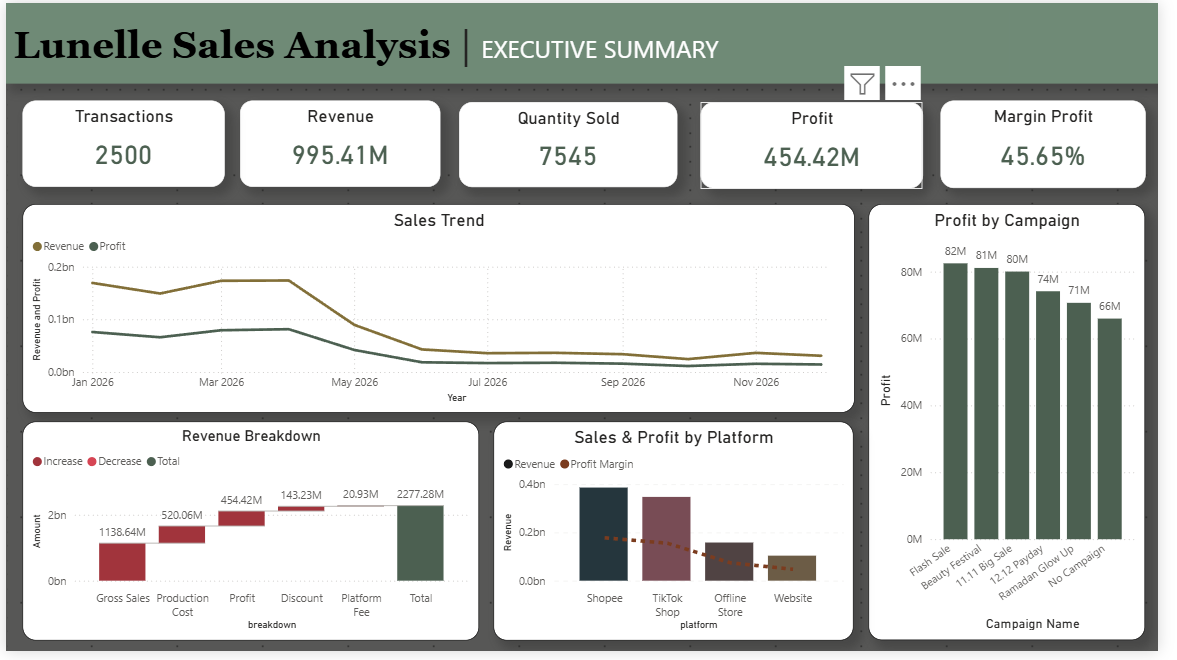

The dashboard page shown, as its layout file describes it:
{"tool":"powerbi","page":{"name":"Overview","canvas":[1280,720],"ordinal":0},"visuals":[{"type":"shape","box":[0,0,1280.5,89.5],"z":0},{"type":"lineChart","title":"Sales Trend","fields":{"Y":["Sum(public monthly_profit.total_sales)","Sum(public monthly_profit.total_profit)"],"Category":["public monthly_profit.month.Variation.Date Hierarchy.Year","public monthly_profit.month.Variation.Date Hierarchy.Quarter","public monthly_profit.month.Variation.Date Hierarchy.Month","public monthly_profit.month.Variation.Date Hierarchy.Day"]},"box":[17.6,224,924.8,232],"z":1000},{"type":"columnChart","title":"Profit by Campaign","fields":{"Y":["Sum(public campaign_financial.total_profit)"],"Category":["public campaign_financial.campaign_name"]},"box":[958.4,224,307.2,484.8],"z":2000},{"type":"lineStackedColumnComboChart","title":"Revenue & Profit Margin  by Platform","fields":{"Category":["public platform_financial.platform"],"Y":["Sum(public platform_financial.total_sales)"],"Y2":["Sum(public platform_financial.total_profit)"]},"box":[542.4,465.6,400,243.2],"z":3000},{"type":"textbox","box":[3.3,9.8,1111.3,71.6],"z":4000},{"type":"card","title":"Revenue","fields":{"Values":["Sum(public transactions.net_sales)"]},"box":[259.2,108.8,222.4,96],"z":5000},{"type":"card","title":"Total Transactions","fields":{"Values":["Count(public transactions.transaction_id)"]},"box":[17.9,109,224.5,96],"z":6000},{"type":"card","title":"Profit","fields":{"Values":["Sum(public sales_new.profit)"]},"box":[771.3,110.6,247.3,96],"z":7000},{"type":"card","title":"Margin Profit","fields":{"Values":["public sales_new.Margin profit"]},"box":[1038.1,109,227.8,97.6],"z":8000},{"type":"card","title":"Quantity Sold","fields":{"Values":["Sum(public transactions.quantity)"]},"box":[502.8,110.6,242.4,94.4],"z":9000},{"type":"waterfallChart","title":"Revenue Breakdown","fields":{"Category":["public rev_breakdown (2).breakdown"],"Y":["Sum(public rev_breakdown (2).amount)"]},"box":[17.6,465.6,507.2,243.2],"z":10000}]}

Visuals, with their boxes in screenshot pixels (x1, y1, x2, y2), scaled from the page's 1280x720 canvas onto the 1177x660 screenshot:
shape: {"left": 0, "top": 0, "right": 1176, "bottom": 82}
"Sales Trend" lineChart: {"left": 16, "top": 205, "right": 867, "bottom": 418}
"Profit by Campaign" columnChart: {"left": 881, "top": 205, "right": 1164, "bottom": 650}
"Revenue & Profit Margin  by Platform" lineStackedColumnComboChart: {"left": 499, "top": 427, "right": 867, "bottom": 650}
textbox: {"left": 3, "top": 9, "right": 1025, "bottom": 75}
"Revenue" card: {"left": 238, "top": 100, "right": 443, "bottom": 188}
"Total Transactions" card: {"left": 16, "top": 100, "right": 223, "bottom": 188}
"Profit" card: {"left": 709, "top": 101, "right": 937, "bottom": 189}
"Margin Profit" card: {"left": 955, "top": 100, "right": 1164, "bottom": 189}
"Quantity Sold" card: {"left": 462, "top": 101, "right": 685, "bottom": 188}
"Revenue Breakdown" waterfallChart: {"left": 16, "top": 427, "right": 483, "bottom": 650}
